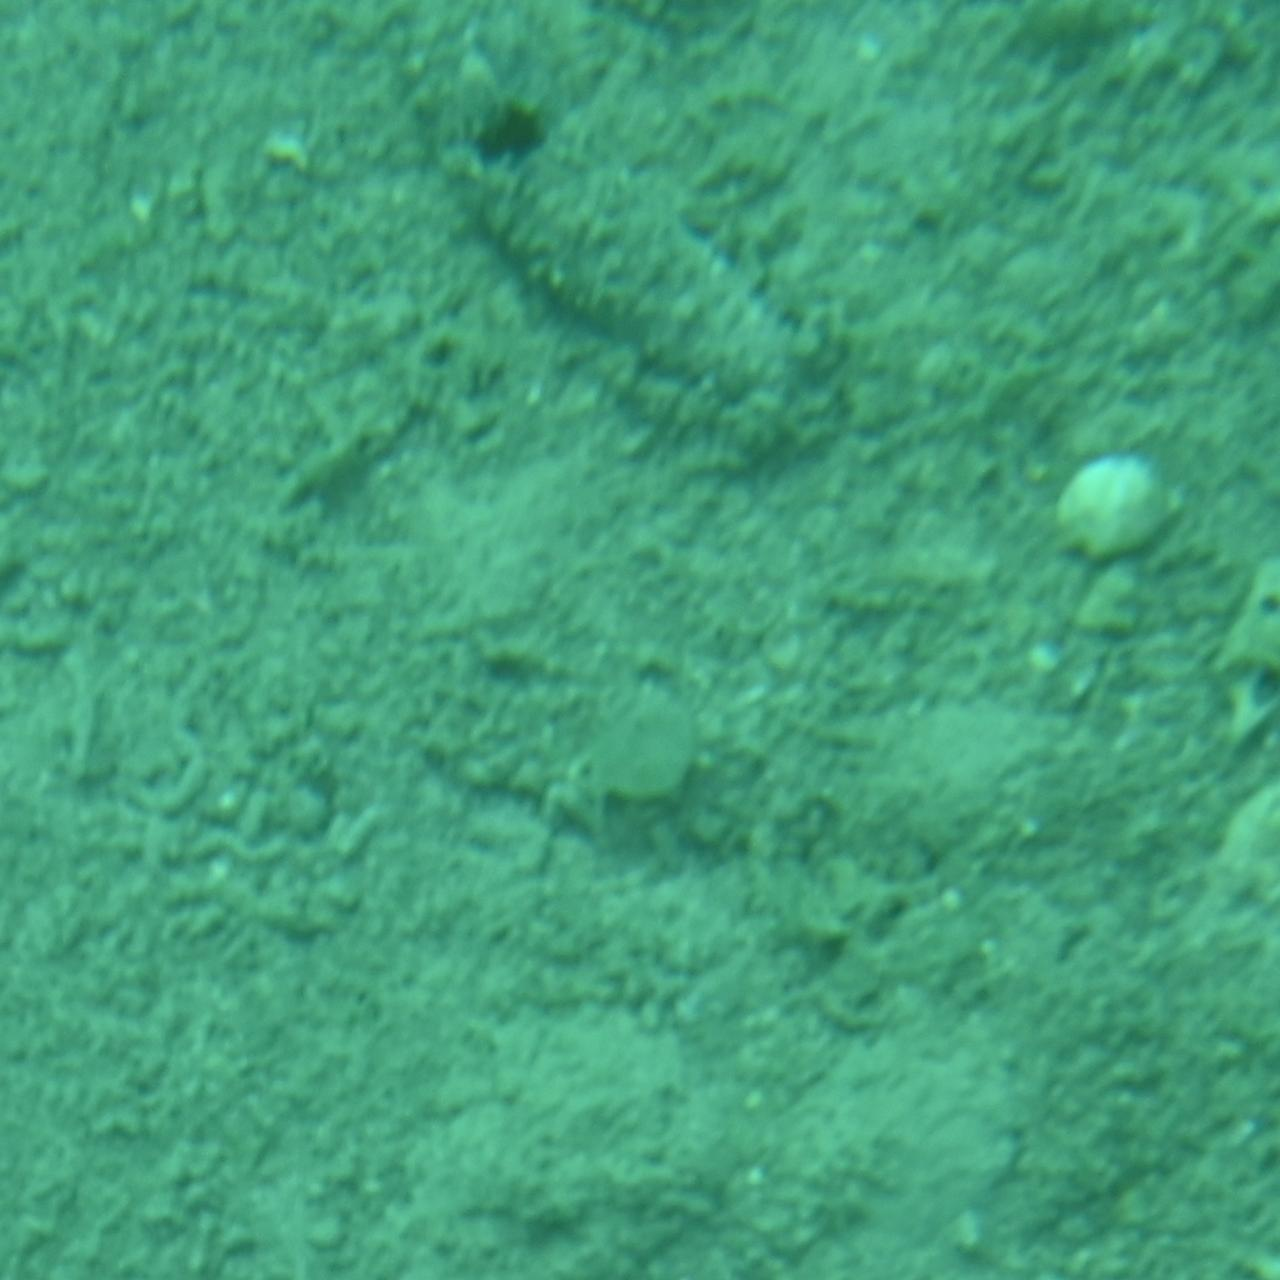Holothuria tubulosa: (428, 88, 852, 471)
